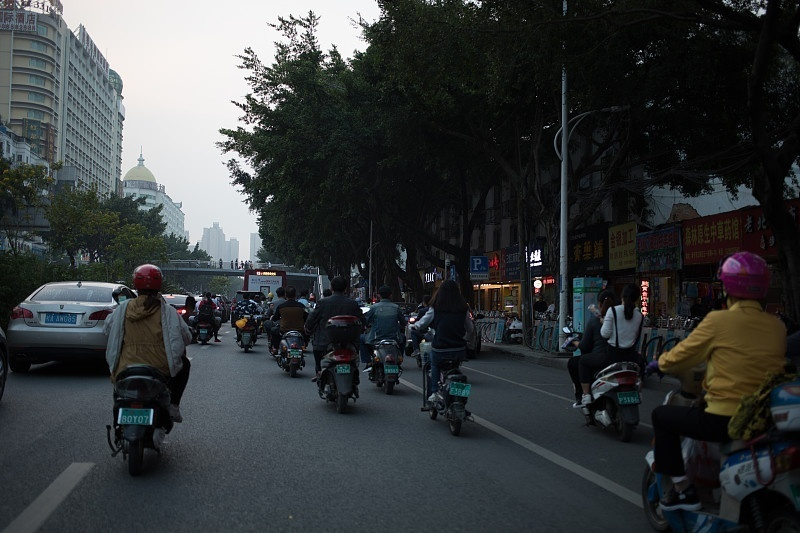non-vehicle: (640, 344, 800, 533), (578, 326, 639, 445), (107, 367, 172, 466), (313, 313, 366, 412), (421, 325, 464, 425), (361, 327, 405, 391), (276, 330, 306, 372), (235, 304, 260, 348), (190, 310, 219, 340)
